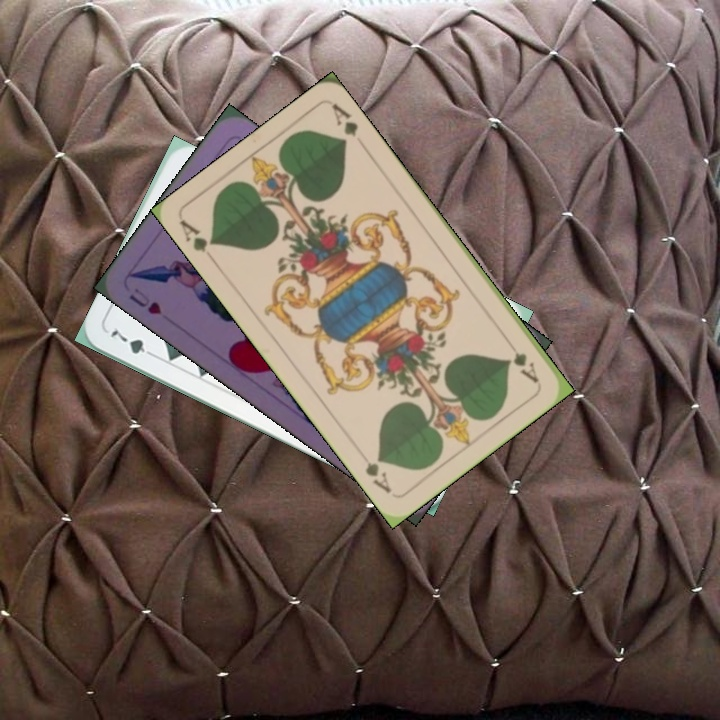G7: (106, 323, 160, 361)
GA: (176, 216, 219, 266), (509, 348, 541, 386)
HU: (124, 284, 165, 318)
